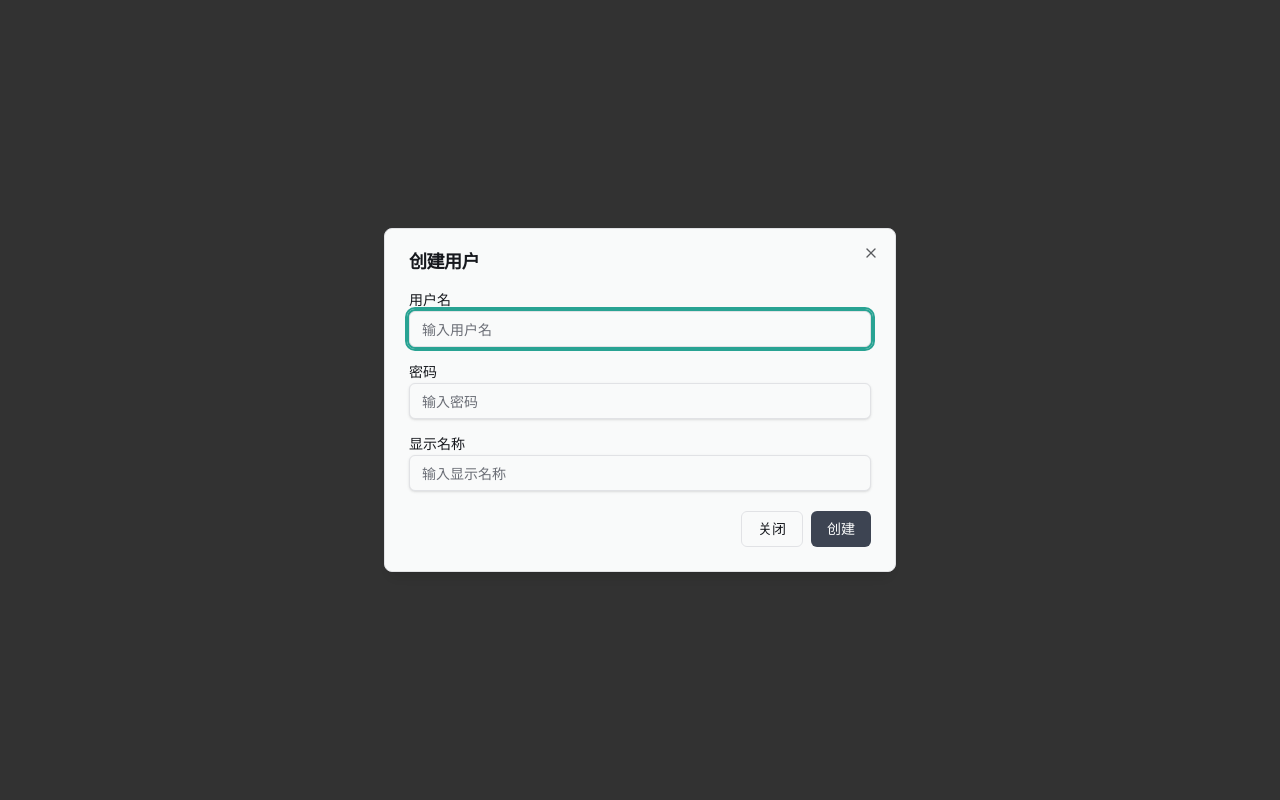
Test case: UserDialogs localized validation › shows Chinese required and minimum-length messages in the create-user dialog
Click the button "创建".
click(841, 529)  # box [811,511,871,547]
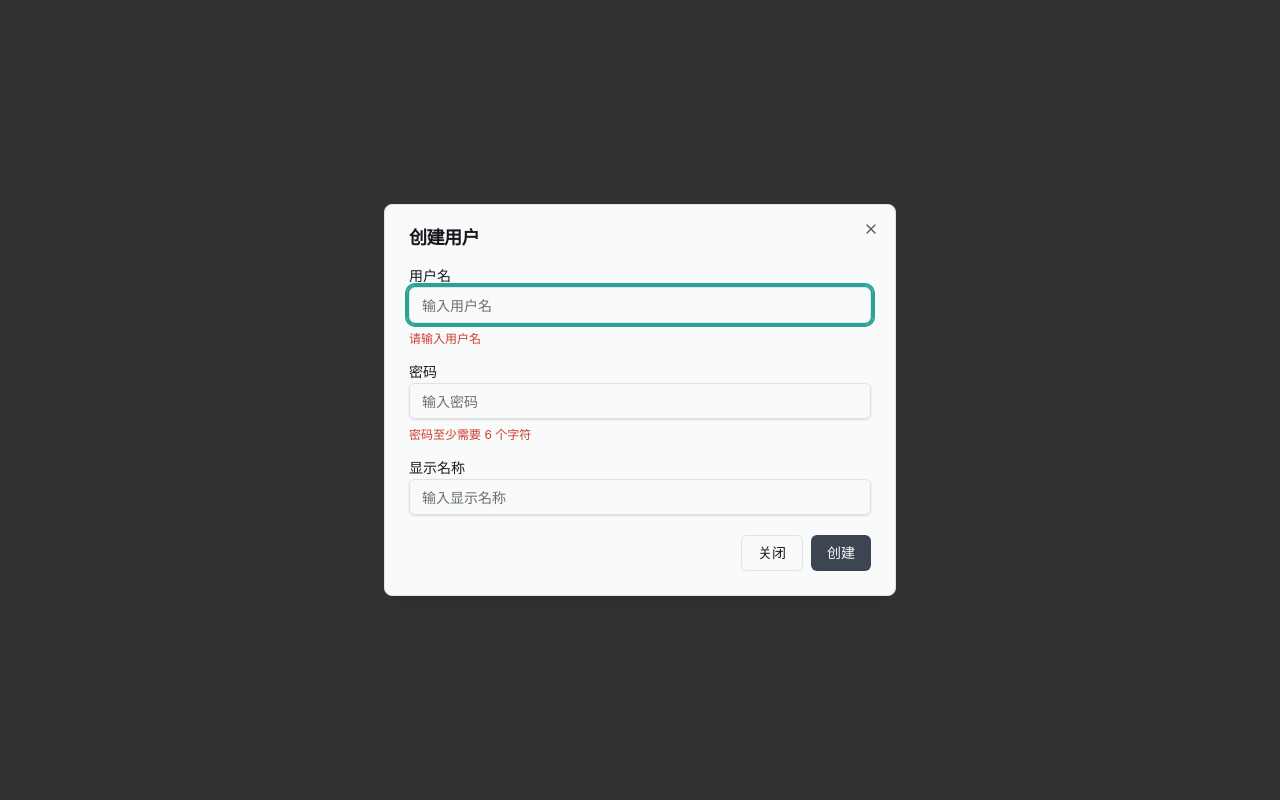
Expected: the text "请输入用户名" is shown, [409,331,481,346]
Expected: the text "密码至少需要 6 个字符" is shown, [409,427,531,442]
